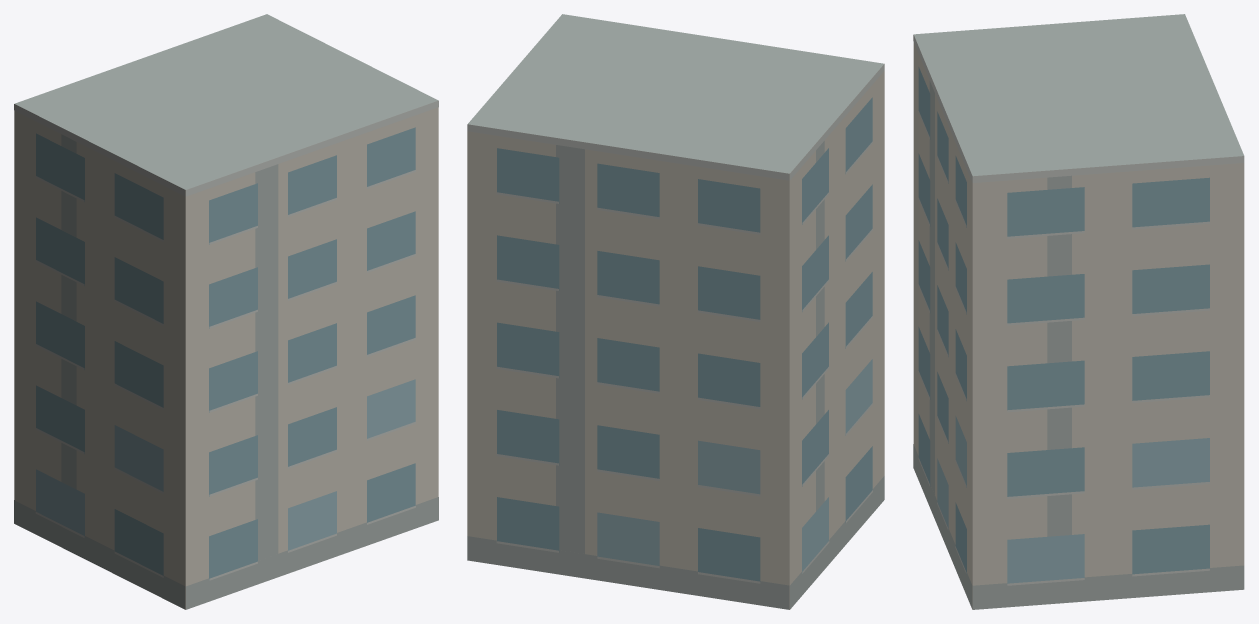
Rendered from residential-562ee577-6cdd-4330-a57a-ba183ed35bc8.glb.
The picture shows the model from 3 angles, left to right: view 1: azimuth 30°, elevation 25°; view 2: azimuth 150°, elevation 25°; view 3: azimuth 270°, elevation 25°; orthographic projection. The views are drawn at different scales.
Visible parts, largest first — view 1: residential-562ee577-6cdd-4330-a57a-ba183ed35bc8.tmp; view 2: residential-562ee577-6cdd-4330-a57a-ba183ed35bc8.tmp; view 3: residential-562ee577-6cdd-4330-a57a-ba183ed35bc8.tmp.
Part boxes in pixels (x1,y1,x2,y2): residential-562ee577-6cdd-4330-a57a-ba183ed35bc8.tmp: (14, 14, 438, 609); residential-562ee577-6cdd-4330-a57a-ba183ed35bc8.tmp: (467, 14, 884, 609); residential-562ee577-6cdd-4330-a57a-ba183ed35bc8.tmp: (913, 14, 1244, 609).
Size of the model in its own units: 12.24 by 15.25 by 10.55.
